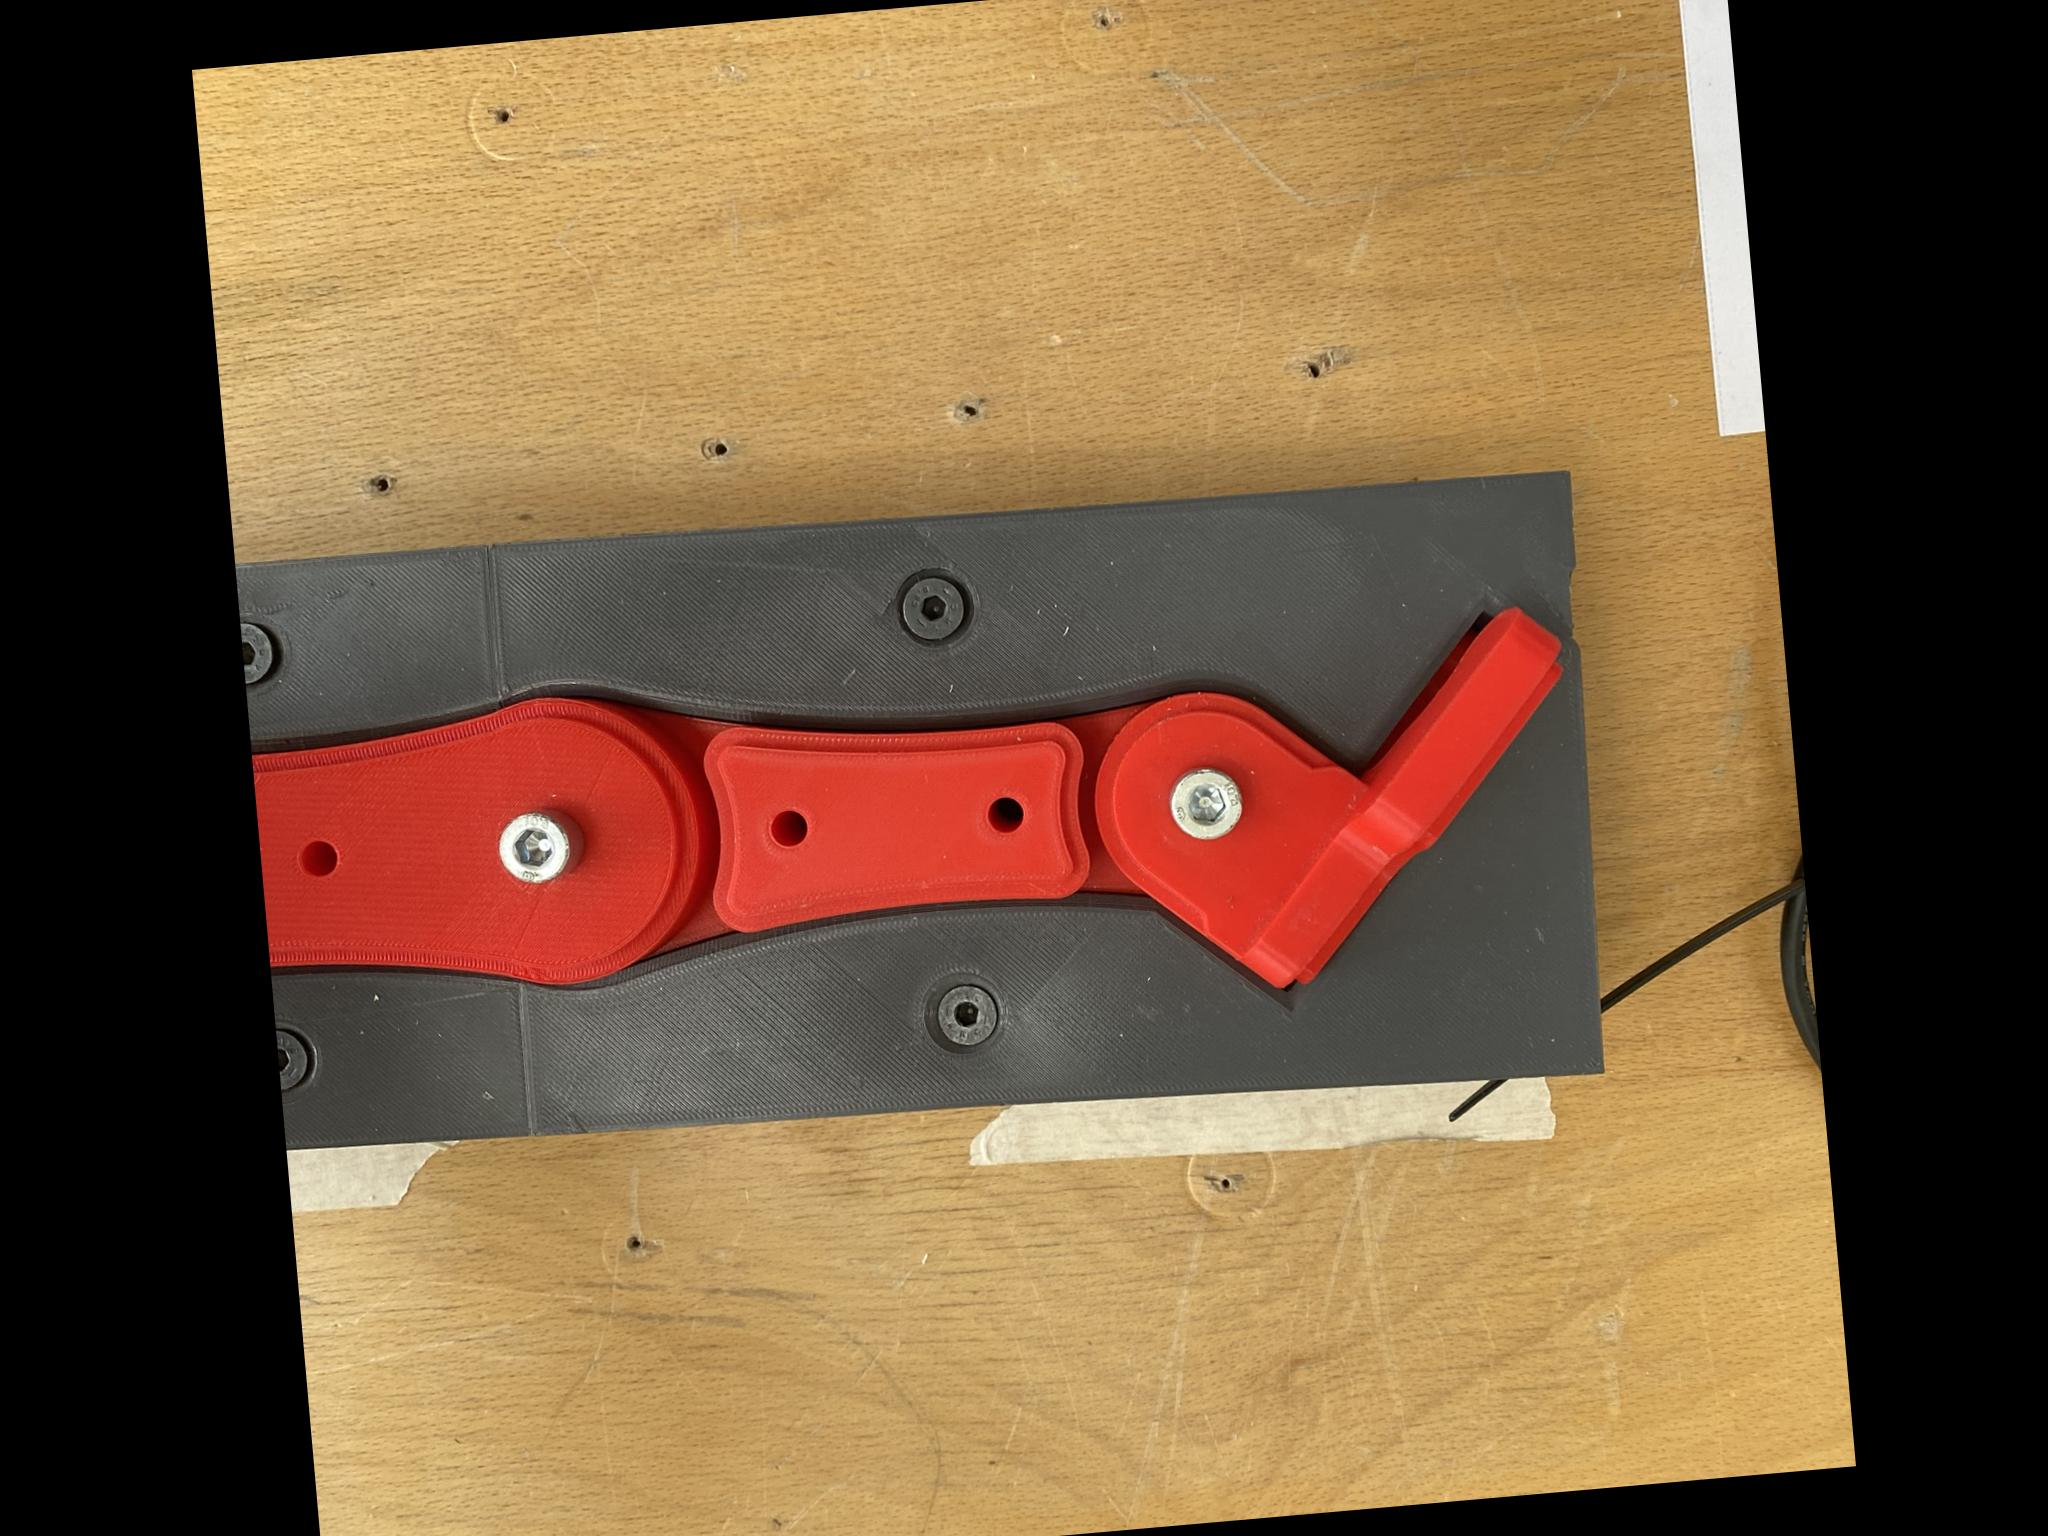H: (1166, 762, 1245, 842), (492, 808, 569, 881), (898, 571, 969, 641), (935, 981, 998, 1047), (276, 1023, 318, 1089), (240, 618, 277, 682)
